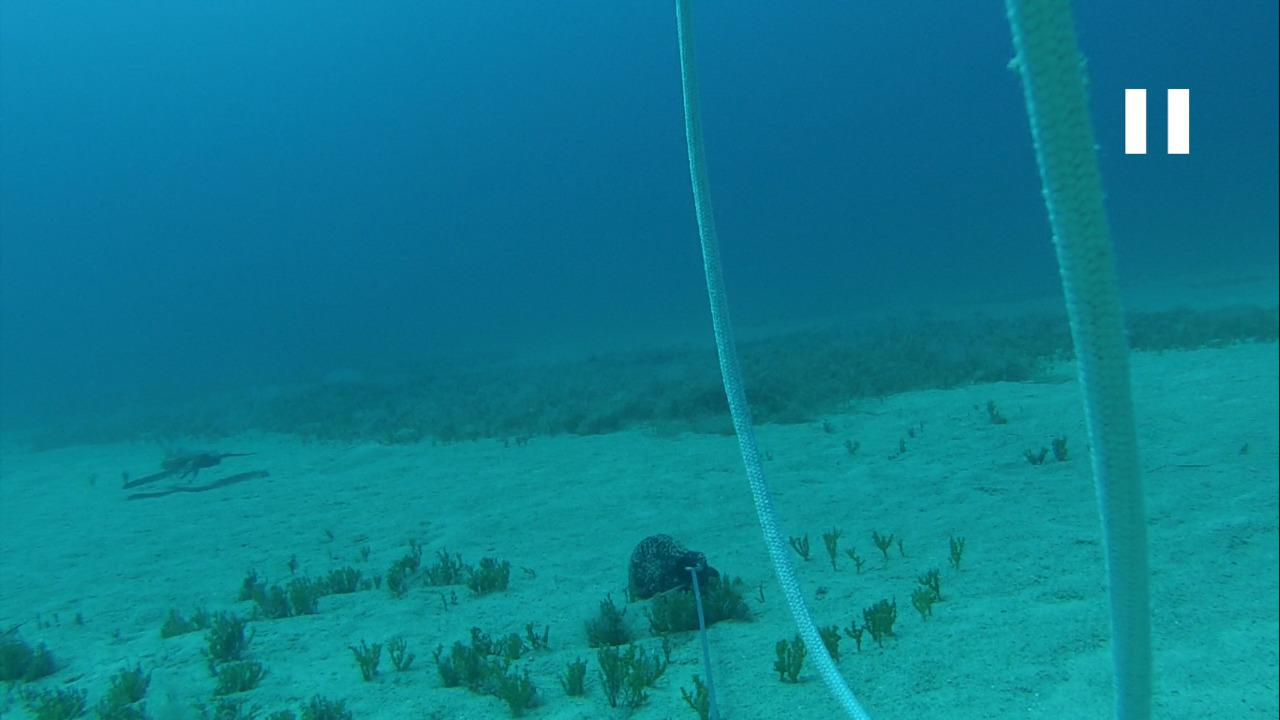dactylopterus: (120, 438, 260, 487)
